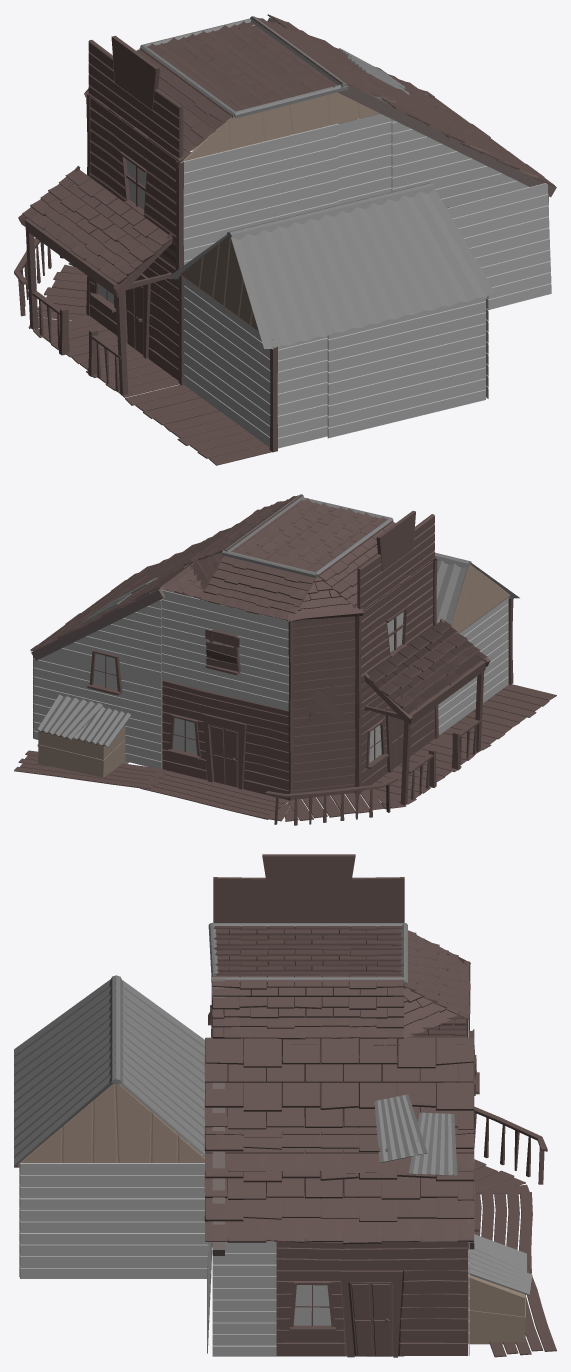
The model's file is Big_Building_Update_V01.fbx.
3 renders of one model, top to bottom at view 1: azimuth 30°, elevation 25°; view 2: azimuth 150°, elevation 25°; view 3: azimuth 270°, elevation 25°, orthographic. The views are drawn at different scales.
Parts seen in each view (by area): view 1: Big_Building_Update_V01; view 2: Big_Building_Update_V01; view 3: Big_Building_Update_V01.
Part boxes in pixels (bbox=[...]): Big_Building_Update_V01: bbox=[14, 14, 556, 465]; Big_Building_Update_V01: bbox=[14, 494, 556, 825]; Big_Building_Update_V01: bbox=[14, 854, 556, 1357].
Bounding box in the file's own units: 1263 × 821 × 1276.
